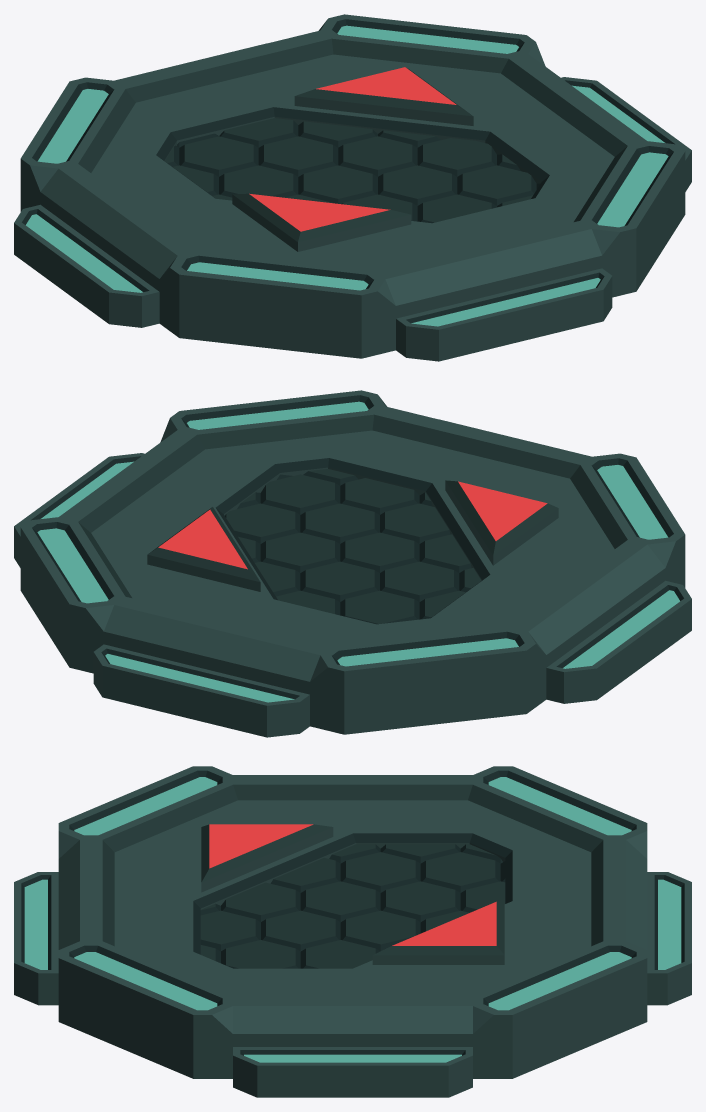
The model's file is PressurePlate.fbx.
3 views of the same model, one above another, from view 1: azimuth 30°, elevation 25°; view 2: azimuth 150°, elevation 25°; view 3: azimuth 270°, elevation 25° (orthographic).
Parts seen in each view (by area): view 1: PressurePlate; view 2: PressurePlate; view 3: PressurePlate.
Part boxes in pixels (x1,y1,x2,y2): PressurePlate: (14,14,691,361); PressurePlate: (14,390,691,737); PressurePlate: (14,766,691,1097).
Bounding box in the file's own units: 311 × 35.14 × 311.
